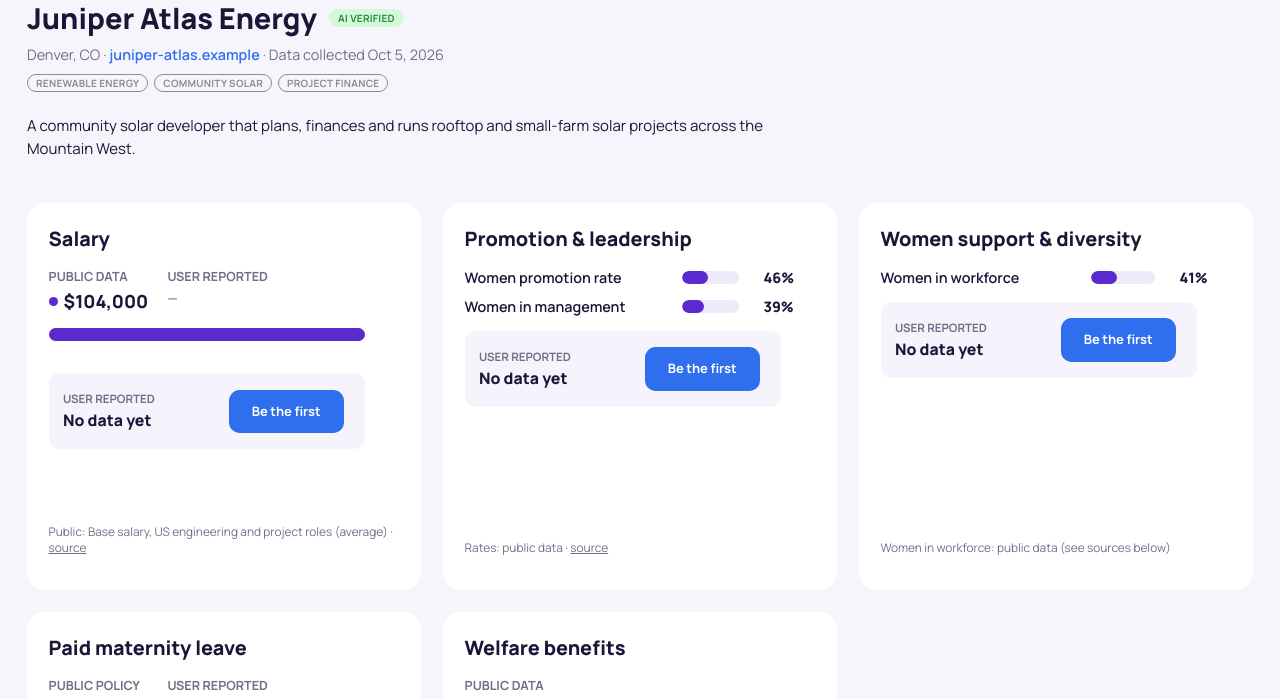
Test case: CompanyProfilePage › checks the form before sending it
Step 1. Click the button with aria-label "Be the first to report salary" → (286, 411), box [229,390,344,433]
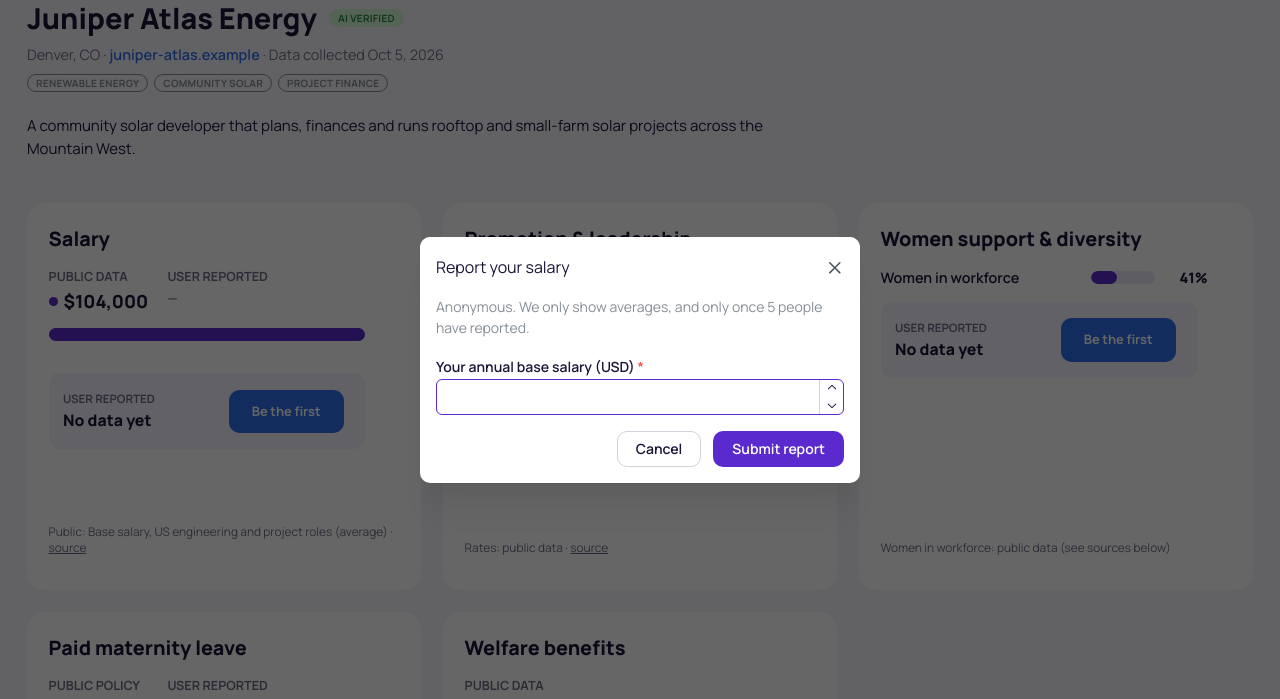
Step 2. Click the button "Submit report" → (779, 449), box [713,431,844,467]
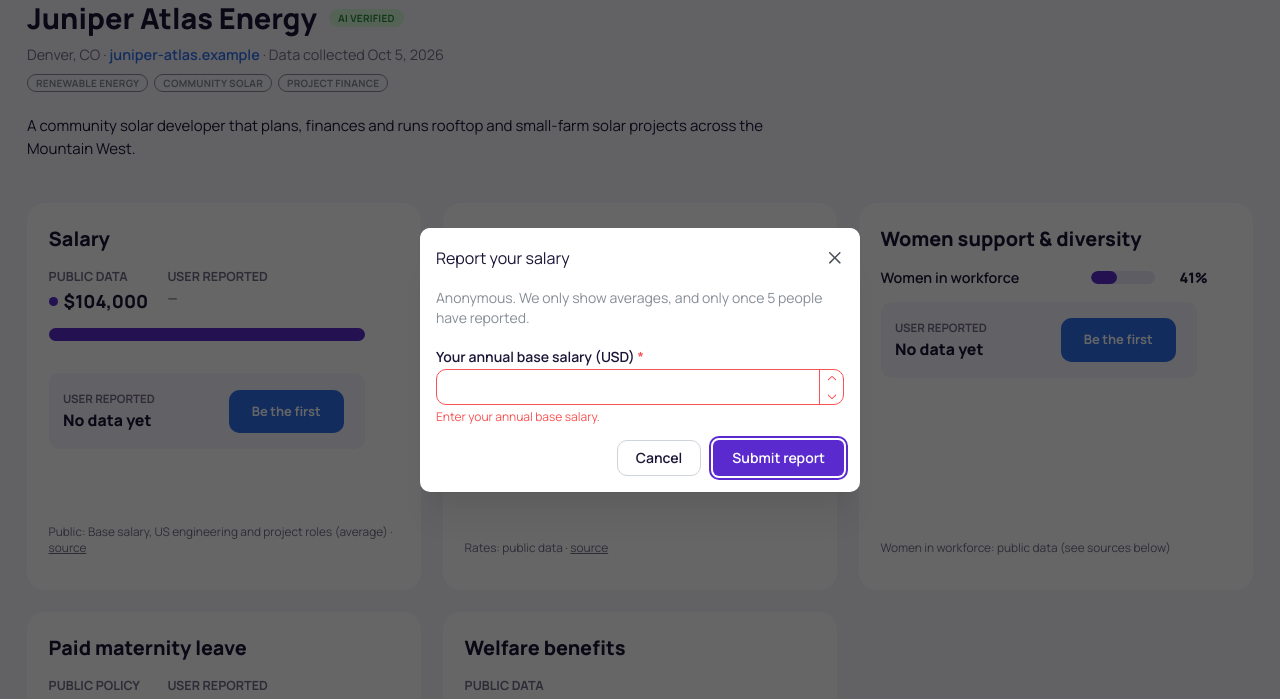
Now the text "Enter your annual base salary." is shown, box [436,408,600,425]
Step 3. Type "500" into the field labelled "Your annual base salary (USD) *" → (640, 387), box [436,369,844,405]
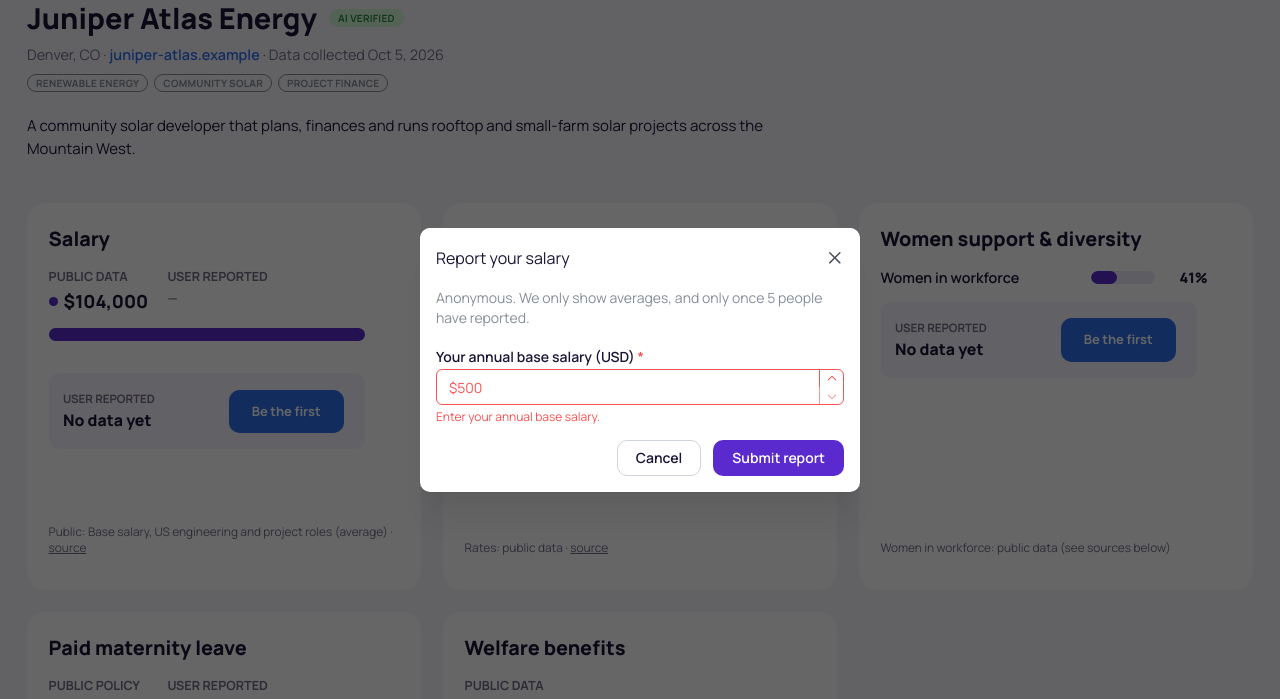
Step 4. Click the button "Submit report" → (779, 458), box [713,440,844,476]
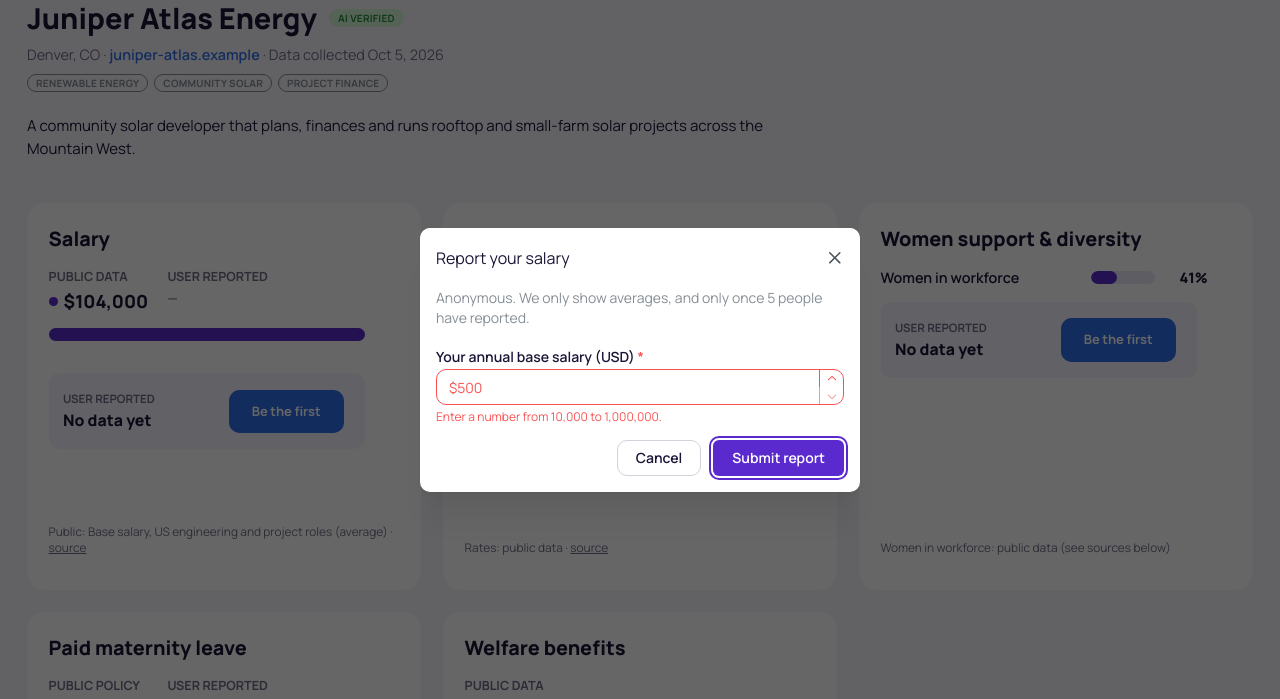
Now the text "Enter a number from 10,000 to 1,000,000." is shown, box [436,408,662,425]
